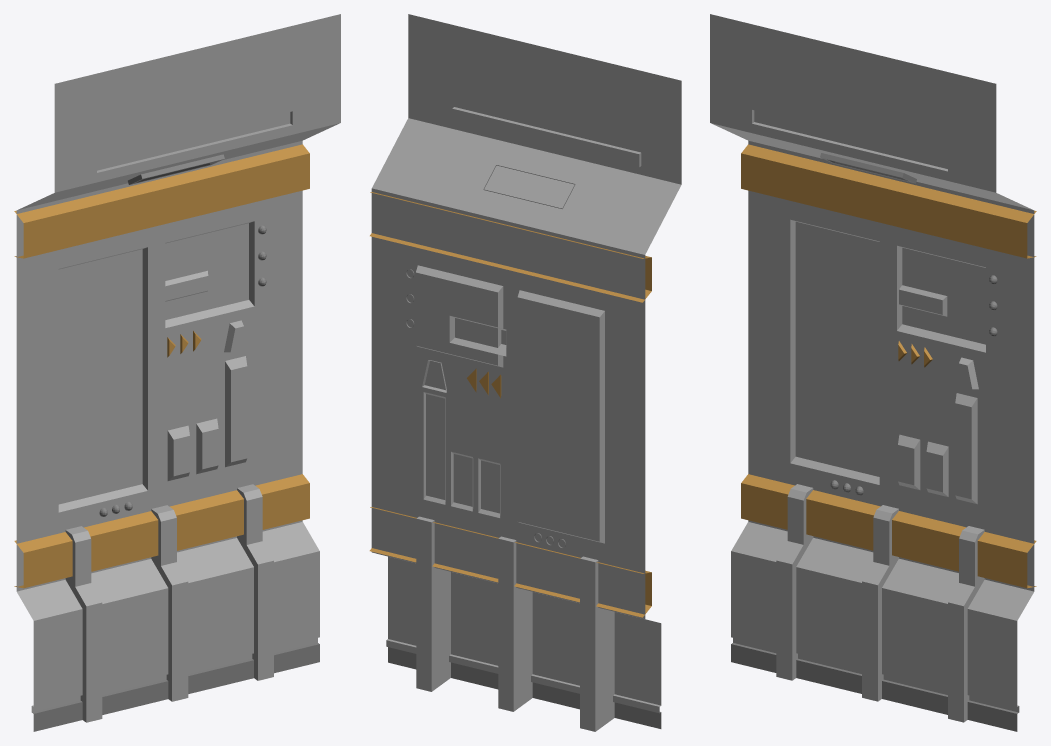
The model's file is WallVariant1.fbx.
3 renders of one model, left to right at view 1: azimuth 30°, elevation 25°; view 2: azimuth 150°, elevation 25°; view 3: azimuth 330°, elevation 25°, orthographic. The views are drawn at different scales.
Visible parts, largest first — view 1: Wall_1; view 2: Wall_1; view 3: Wall_1.
Part boxes in pixels (x1=…): Wall_1: x1=14, y1=14, x2=340, y2=731; Wall_1: x1=369, y1=14, x2=681, y2=731; Wall_1: x1=710, y1=14, x2=1036, y2=731.
Bounding box in the file's own units: 2 × 4.43 × 0.5447.
